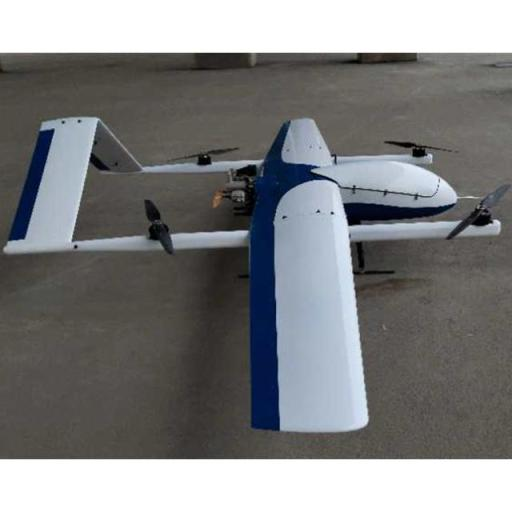uav: (13, 110, 512, 430)
